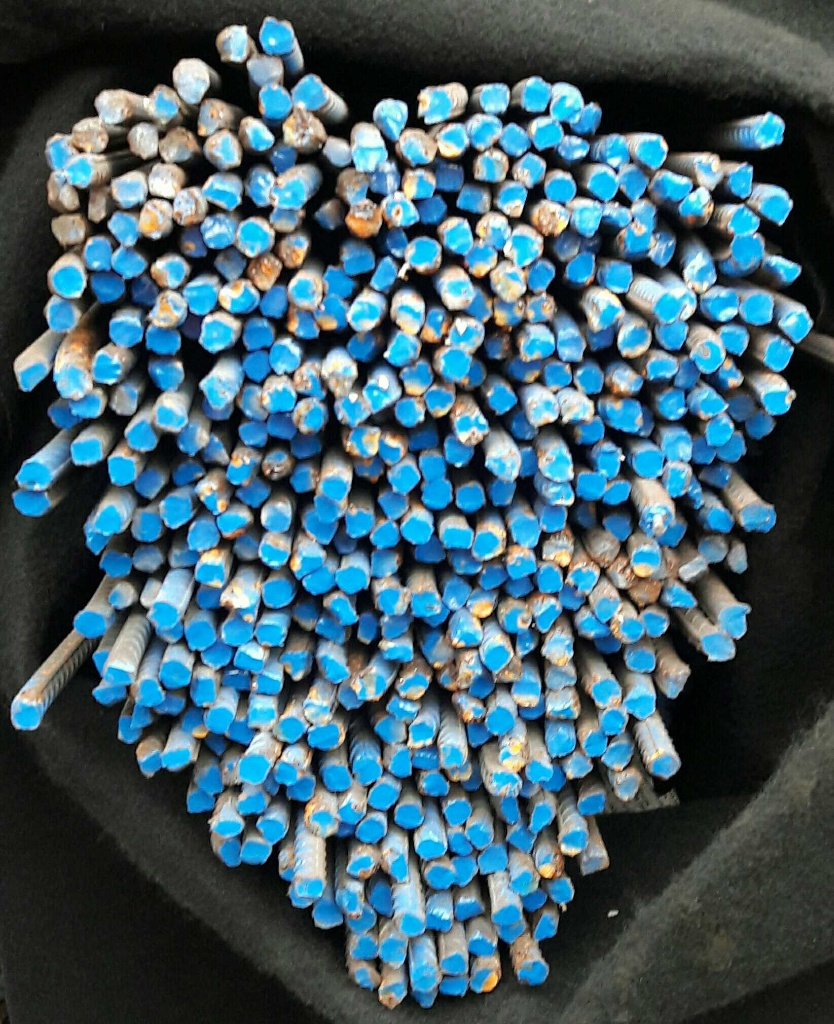dipstick: (172, 58, 210, 105), (202, 129, 242, 171), (203, 175, 243, 210), (138, 200, 173, 240), (345, 200, 383, 236), (374, 99, 406, 141), (150, 290, 186, 327), (146, 85, 181, 123), (476, 213, 511, 251), (464, 238, 497, 278), (438, 217, 473, 254), (447, 317, 484, 352), (93, 90, 131, 124), (680, 187, 713, 226), (72, 118, 108, 153), (247, 254, 282, 290), (302, 508, 337, 544), (540, 529, 575, 565), (214, 25, 248, 62), (260, 18, 294, 55), (237, 220, 271, 257), (239, 116, 274, 151), (173, 188, 206, 225), (549, 87, 581, 125), (378, 426, 409, 465), (291, 75, 325, 110), (287, 277, 322, 311), (495, 183, 530, 217), (619, 222, 653, 257), (150, 255, 186, 288), (364, 376, 397, 412), (618, 321, 651, 357), (392, 296, 424, 333), (517, 325, 554, 357), (381, 193, 419, 224), (258, 85, 292, 119), (341, 240, 375, 274), (486, 449, 521, 482), (365, 255, 398, 290), (456, 181, 491, 214), (383, 333, 419, 365), (646, 229, 675, 268), (294, 365, 328, 398), (315, 295, 348, 329), (417, 89, 451, 122), (503, 234, 537, 267), (247, 54, 282, 86), (202, 213, 234, 248), (199, 377, 235, 408), (270, 339, 301, 375), (294, 398, 325, 434), (217, 507, 253, 538), (755, 111, 784, 149), (403, 132, 436, 165), (368, 161, 401, 194), (475, 149, 508, 182), (498, 122, 531, 155), (405, 236, 439, 268), (469, 115, 501, 149), (336, 169, 370, 201), (514, 154, 546, 188), (694, 154, 725, 189), (111, 248, 147, 278), (237, 384, 267, 420), (112, 175, 145, 207), (159, 128, 191, 161), (347, 426, 380, 458), (400, 361, 432, 394), (541, 448, 573, 481), (655, 387, 688, 419), (730, 234, 763, 266), (149, 164, 180, 198), (635, 136, 666, 170), (247, 168, 274, 207), (45, 133, 75, 168), (90, 272, 125, 302), (53, 367, 88, 397), (199, 321, 234, 351), (434, 157, 464, 192), (740, 293, 772, 325), (780, 311, 812, 343), (127, 124, 158, 157), (277, 234, 308, 267), (236, 477, 269, 508), (567, 563, 600, 594), (559, 128, 590, 161), (619, 168, 650, 201), (149, 360, 183, 390), (441, 279, 475, 309), (718, 606, 748, 640), (638, 506, 672, 536), (270, 180, 305, 209), (188, 103, 219, 135), (214, 248, 245, 280), (184, 284, 216, 315), (243, 317, 274, 349), (451, 615, 483, 646), (323, 265, 354, 297), (45, 301, 78, 331), (262, 579, 295, 609), (146, 326, 180, 355), (324, 596, 358, 625), (107, 318, 142, 346), (593, 444, 621, 479), (521, 76, 549, 111), (665, 460, 691, 497), (161, 496, 192, 527), (262, 449, 293, 480), (526, 395, 557, 426), (573, 363, 604, 394), (437, 125, 468, 156), (692, 342, 723, 373), (760, 194, 791, 225), (336, 395, 368, 425), (421, 479, 453, 509), (440, 350, 472, 380), (510, 516, 540, 548), (492, 297, 524, 327), (728, 206, 760, 236), (683, 262, 715, 292), (109, 213, 138, 246), (109, 383, 138, 416), (279, 652, 312, 681), (258, 537, 291, 566), (396, 671, 429, 700), (455, 415, 488, 444), (533, 600, 562, 633), (486, 386, 519, 415), (402, 170, 435, 199), (17, 462, 51, 490), (292, 551, 326, 579), (347, 333, 381, 361), (742, 505, 776, 533), (194, 485, 225, 515), (238, 754, 269, 784), (378, 938, 408, 969), (623, 689, 654, 719), (662, 430, 692, 461), (656, 320, 687, 350), (708, 290, 738, 321), (187, 521, 219, 550), (510, 354, 542, 383), (533, 118, 562, 150), (524, 295, 556, 324), (699, 456, 731, 485), (51, 216, 84, 244), (353, 673, 386, 701), (302, 566, 335, 594), (347, 301, 380, 329), (573, 102, 601, 135), (520, 333, 553, 361), (657, 172, 690, 200), (14, 489, 49, 515), (53, 266, 83, 296), (416, 194, 446, 224), (588, 172, 618, 202), (92, 353, 121, 384), (425, 385, 454, 416), (726, 393, 757, 422), (260, 503, 292, 531), (307, 811, 339, 839), (375, 716, 407, 744), (318, 655, 350, 683), (561, 396, 593, 424), (573, 205, 601, 237), (526, 261, 554, 293), (605, 262, 633, 294), (764, 339, 792, 371), (84, 237, 111, 270), (73, 611, 106, 638), (128, 421, 157, 451), (131, 512, 161, 541), (10, 701, 40, 730), (202, 640, 232, 669), (455, 481, 484, 511), (573, 417, 603, 446), (543, 360, 572, 390), (566, 252, 595, 282), (716, 433, 746, 462), (695, 390, 725, 419), (260, 287, 288, 318), (136, 468, 164, 499), (184, 622, 215, 650), (159, 660, 190, 688), (368, 783, 399, 811), (450, 856, 478, 887), (511, 680, 542, 708), (720, 325, 748, 356), (703, 634, 735, 661), (261, 387, 294, 413), (145, 602, 178, 628), (316, 617, 349, 643), (177, 229, 206, 258), (444, 436, 473, 465), (632, 548, 661, 577), (480, 83, 509, 112), (47, 401, 77, 429), (242, 352, 270, 382), (133, 544, 163, 572), (346, 906, 376, 934), (371, 549, 401, 577), (418, 453, 448, 481), (499, 743, 529, 771), (472, 531, 502, 559), (697, 535, 727, 563), (69, 391, 100, 418), (222, 618, 253, 645), (336, 567, 367, 594), (402, 516, 433, 543), (603, 513, 634, 540), (377, 492, 409, 518), (388, 695, 420, 721), (443, 579, 469, 611), (542, 639, 574, 665), (380, 614, 413, 639), (314, 494, 348, 518), (729, 164, 753, 198), (107, 457, 136, 485), (179, 426, 208, 454), (353, 757, 381, 786), (479, 846, 508, 874), (344, 508, 372, 537), (390, 465, 419, 493), (394, 398, 423, 426), (705, 416, 733, 445), (746, 411, 775, 439), (592, 303, 620, 332), (65, 158, 92, 188), (134, 680, 164, 707), (506, 827, 536, 854), (237, 421, 268, 447), (101, 551, 132, 577), (415, 536, 446, 562), (491, 770, 522, 796), (611, 618, 642, 644), (665, 584, 697, 609), (335, 890, 363, 918), (468, 589, 496, 617), (592, 680, 620, 708), (130, 277, 157, 306), (347, 853, 376, 880), (502, 606, 531, 633), (658, 519, 687, 546), (635, 450, 664, 477), (557, 333, 584, 362), (267, 414, 297, 440), (94, 505, 120, 535), (183, 708, 209, 738), (517, 960, 547, 986), (290, 434, 321, 459), (195, 562, 226, 587), (646, 354, 677, 379), (654, 293, 679, 324), (307, 725, 339, 749), (18, 364, 46, 391), (275, 717, 303, 744), (195, 765, 223, 792), (321, 765, 349, 792), (371, 521, 399, 548), (486, 707, 514, 734), (484, 645, 512, 672), (603, 743, 630, 771), (156, 405, 185, 431), (83, 526, 109, 555), (439, 971, 468, 997), (255, 622, 285, 647), (625, 648, 655, 673), (545, 178, 575, 203), (444, 799, 471, 826), (558, 583, 585, 610), (577, 473, 604, 500), (169, 540, 197, 566), (204, 708, 232, 734), (560, 830, 588, 856), (547, 731, 575, 757), (666, 671, 692, 699), (540, 505, 566, 533), (763, 389, 791, 415), (204, 435, 229, 464), (70, 440, 100, 464), (419, 773, 449, 797), (477, 565, 507, 589), (189, 678, 215, 705), (389, 749, 415, 776), (256, 819, 284, 844), (649, 754, 677, 779), (706, 507, 734, 532), (117, 714, 141, 743), (465, 824, 494, 848), (410, 592, 439, 616), (234, 650, 264, 673), (312, 905, 342, 928), (546, 667, 576, 690), (356, 613, 378, 644), (490, 480, 516, 506), (641, 612, 667, 638), (357, 819, 384, 844), (304, 700, 331, 725), (336, 684, 363, 709), (537, 852, 564, 877), (566, 753, 593, 778), (395, 805, 423, 829), (410, 966, 438, 990), (538, 565, 562, 593), (379, 986, 408, 1009), (395, 914, 424, 937), (425, 866, 454, 889), (496, 921, 525, 944), (452, 551, 481, 574), (545, 879, 574, 902), (508, 556, 537, 579), (240, 842, 270, 864), (454, 899, 484, 921), (510, 872, 540, 894), (491, 904, 522, 925), (383, 853, 408, 879), (320, 476, 346, 501), (291, 468, 318, 492), (408, 723, 435, 747), (528, 804, 552, 831), (616, 774, 640, 801), (603, 480, 630, 504), (693, 436, 716, 464), (270, 210, 299, 232), (251, 673, 281, 694), (601, 710, 626, 735), (595, 597, 619, 623), (287, 776, 314, 799), (338, 802, 365, 825), (156, 693, 185, 714), (227, 460, 251, 485), (108, 584, 133, 608), (104, 666, 134, 686), (440, 744, 465, 768), (542, 766, 566, 791), (162, 748, 189, 770), (187, 791, 214, 813), (470, 970, 497, 992), (444, 526, 471, 548), (577, 793, 604, 815), (729, 542, 748, 573), (247, 707, 275, 728), (581, 856, 609, 877), (155, 624, 184, 644), (274, 761, 297, 786), (448, 833, 473, 856), (584, 731, 607, 756), (238, 793, 265, 814), (296, 877, 323, 898), (424, 911, 451, 932), (440, 954, 467, 975), (93, 687, 126, 704), (355, 967, 380, 989), (220, 840, 241, 866), (535, 914, 556, 940), (417, 840, 445, 859), (139, 751, 162, 774), (352, 936, 376, 958), (526, 761, 551, 782), (212, 820, 241, 837), (467, 938, 494, 956), (462, 701, 485, 722), (132, 705, 153, 727), (290, 886, 310, 907), (278, 867, 294, 882)
